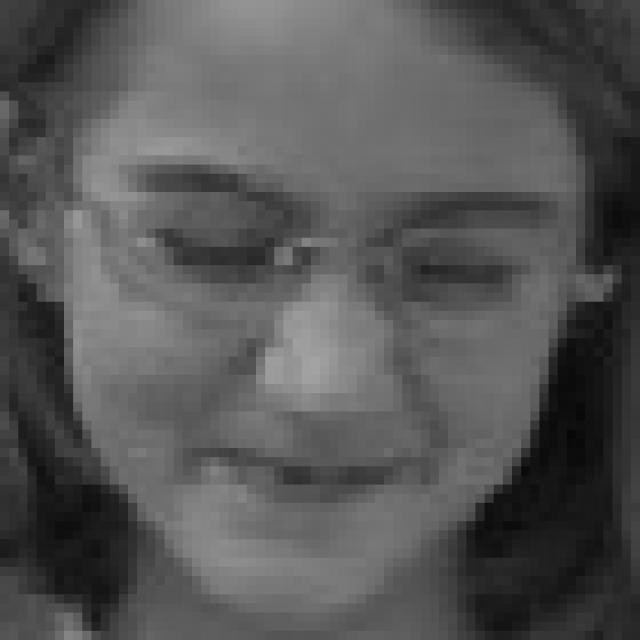real: (72, 0, 508, 581), (137, 168, 536, 312)
